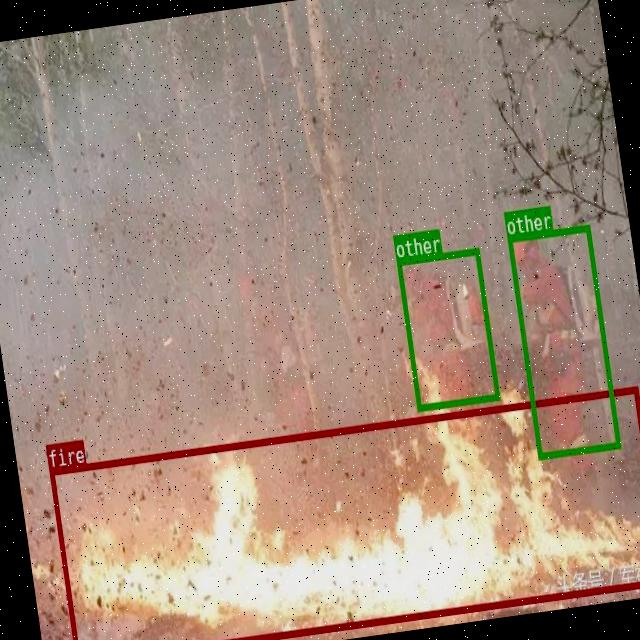fire: (49, 385, 640, 640)
